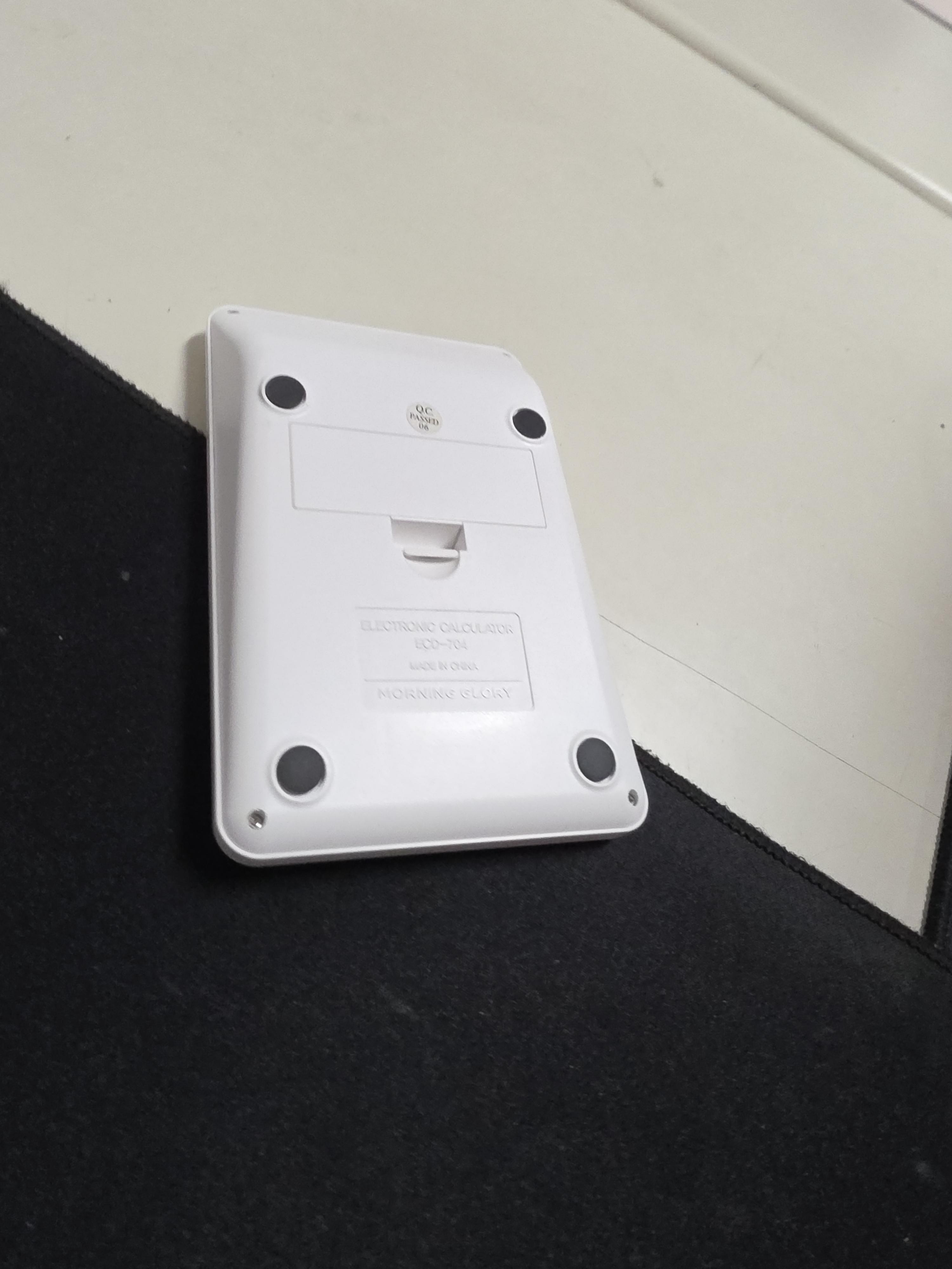calculator: (206, 304, 649, 866)
